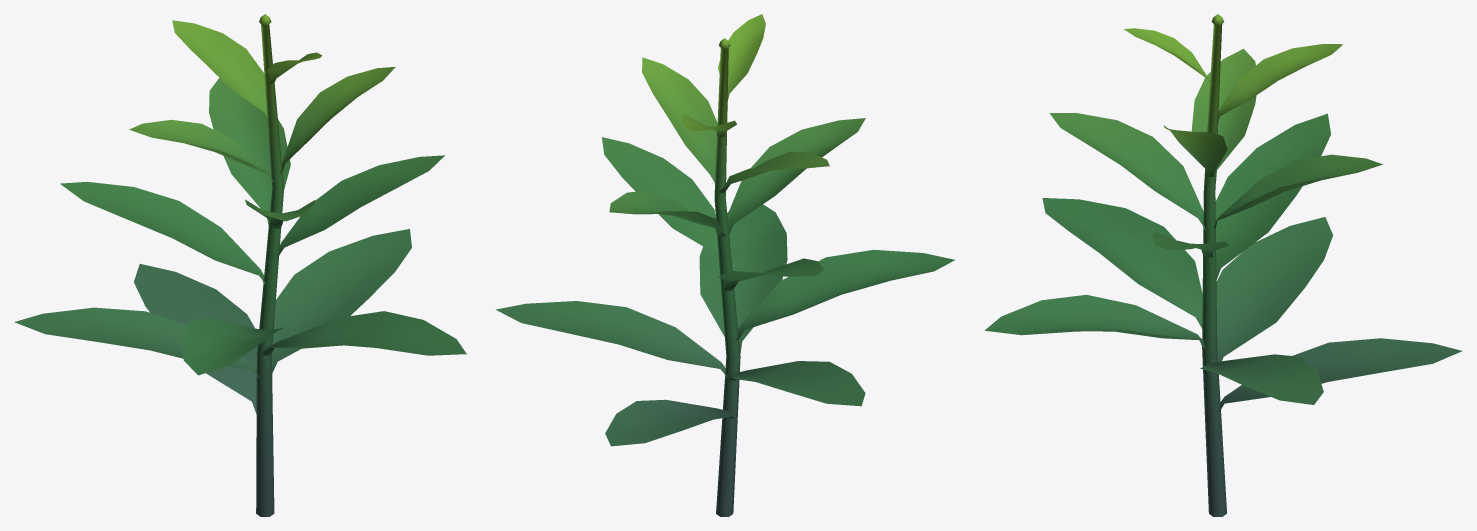
Rendered from plant_03.fbx.
3 views of the same model, side by side, from view 1: azimuth 30°, elevation 25°; view 2: azimuth 150°, elevation 25°; view 3: azimuth 270°, elevation 25° (orthographic). The views are drawn at different scales.
Parts seen in each view (by area): view 1: plant_03; view 2: plant_03; view 3: plant_03.
Part boxes in pixels (<box>): plant_03: <box>14,14,466,516</box>; plant_03: <box>496,14,954,516</box>; plant_03: <box>985,14,1462,516</box>.
Bounding box in the file's own units: 2.7 × 3.31 × 2.87.
